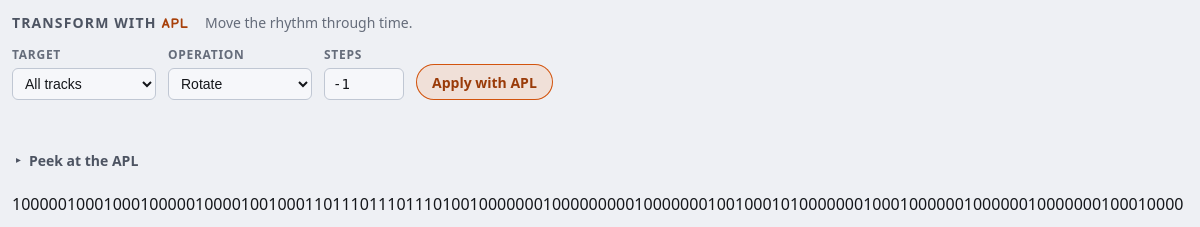
Test: the controls › expose the parameters each operation actually has
expect the number field labelled "Steps" is shown: met, box [324,68,404,100]
Select "Reverse" in the dropdown labelled "Operation": (240, 84) [168,68,312,100]
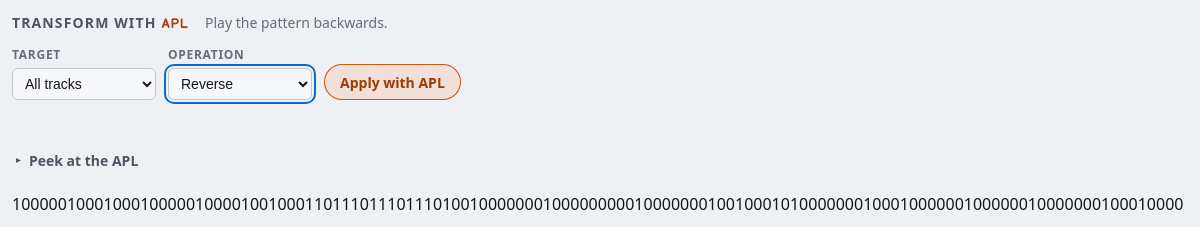
expect the label labelled "Steps" is gone: met
Select "Euclidean" in the dropdown labelled "Operation": (240, 84) [168,68,312,100]
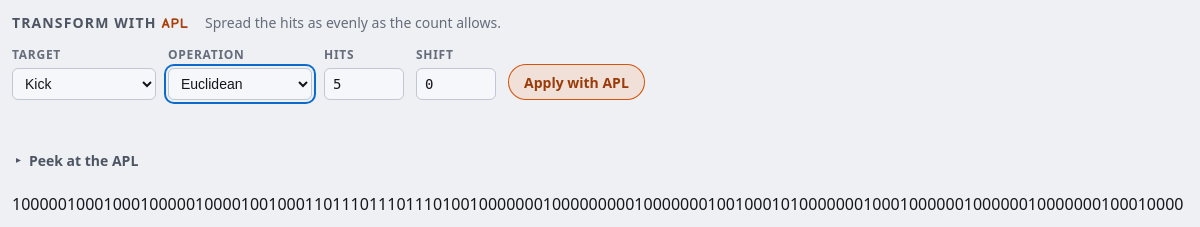
expect the number field labelled "Hits" is shown: met, box [324,68,404,100]
expect the number field labelled "Shift" is shown: met, box [416,68,496,100]
